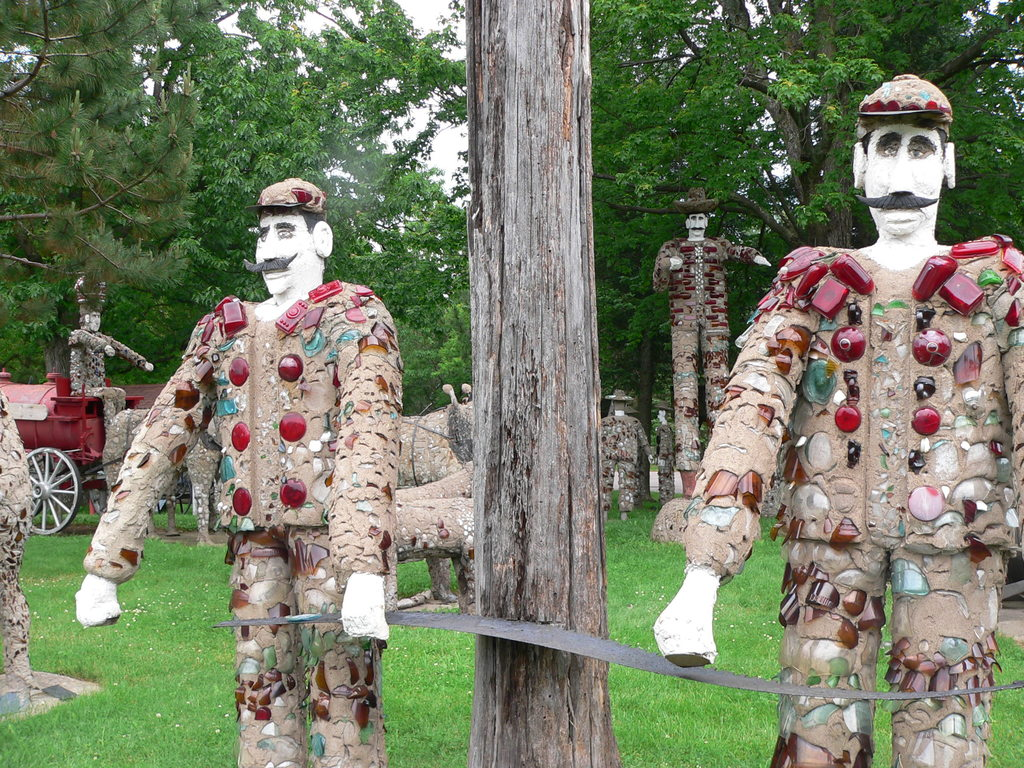Tree: (0, 0, 1024, 502), (466, 0, 625, 768)
